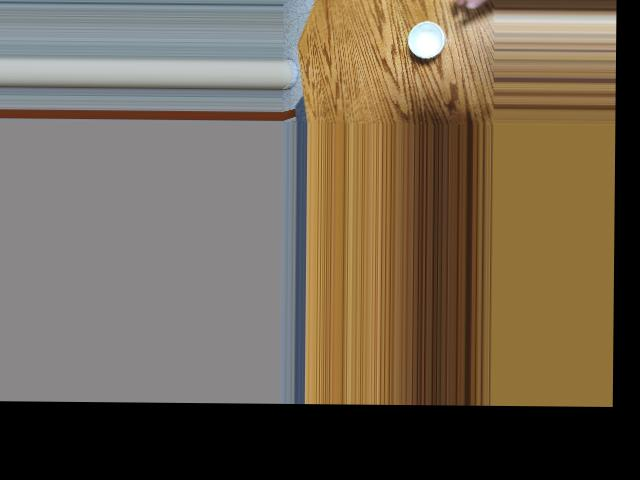cotage: (405, 15, 453, 57)
